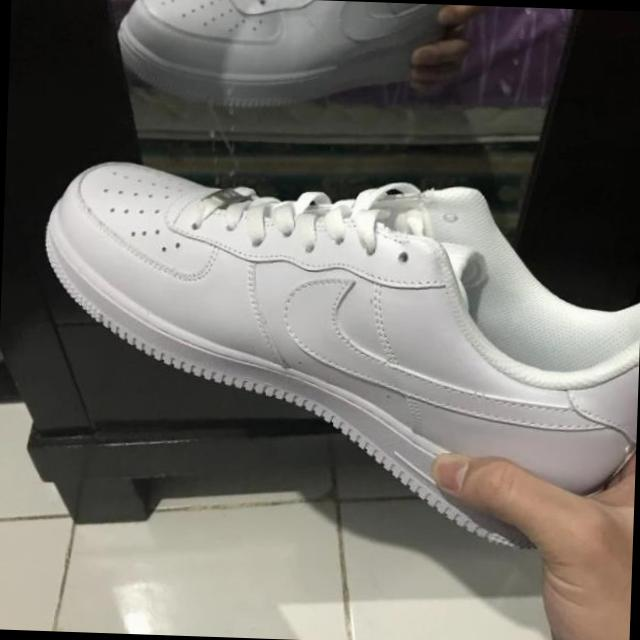nike_original_airforce: (33, 154, 640, 553)
